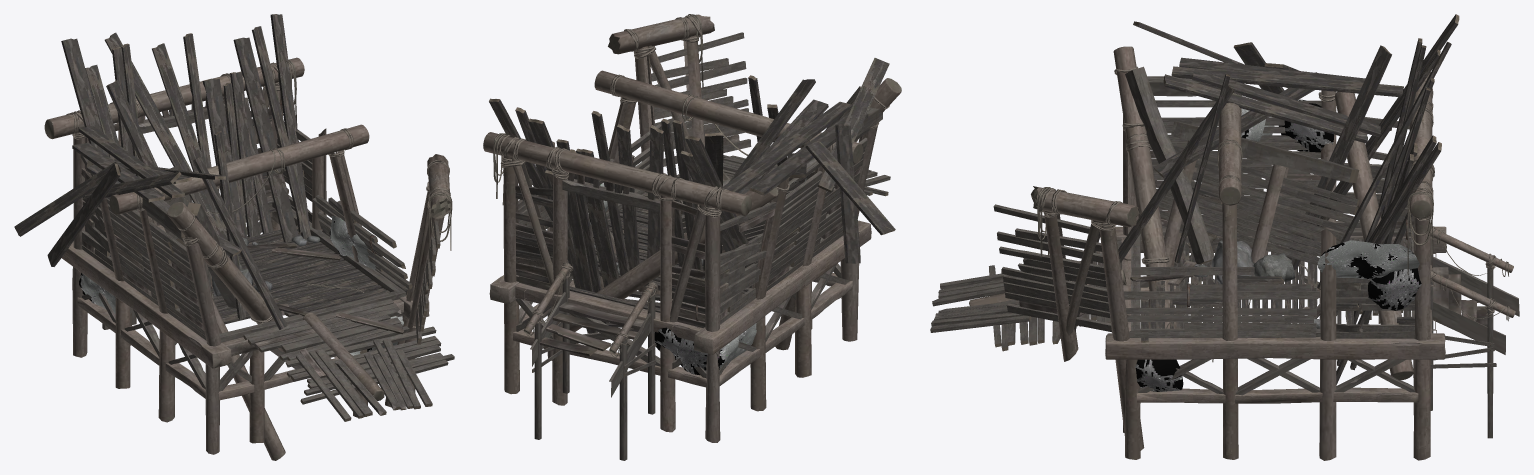
Rendered from AEG020_665out_1-transformed.glb.
3 renders of one model, left to right at view 1: azimuth 30°, elevation 25°; view 2: azimuth 150°, elevation 25°; view 3: azimuth 270°, elevation 25°, orthographic. The views are drawn at different scales.
Parts seen in each view (by area): view 1: default; view 2: default; view 3: default.
Part boxes in pixels (x1,y1,x2,y2): default: (14,14,454,460); default: (483,14,901,460); default: (930,14,1519,460).
Bounding box in the file's own units: 11.04 × 9.77 × 14.43.
Materials: 8 (8 with a texture image).
